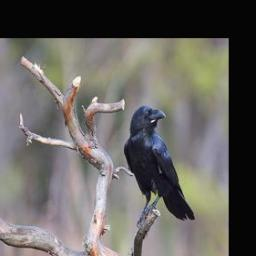Crow: (123, 103, 197, 225)
